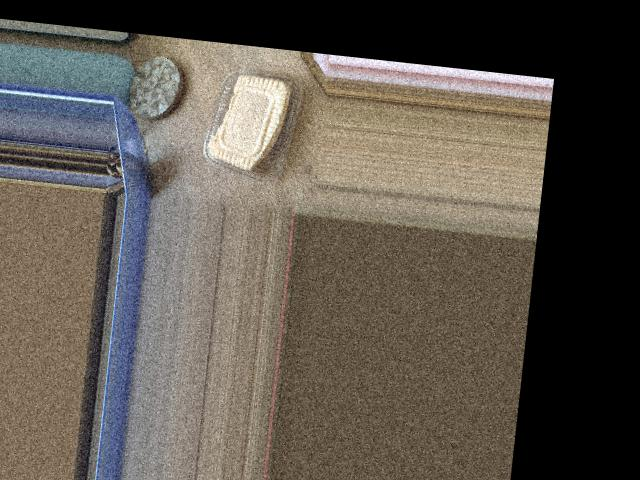cheese: (195, 51, 331, 177)
